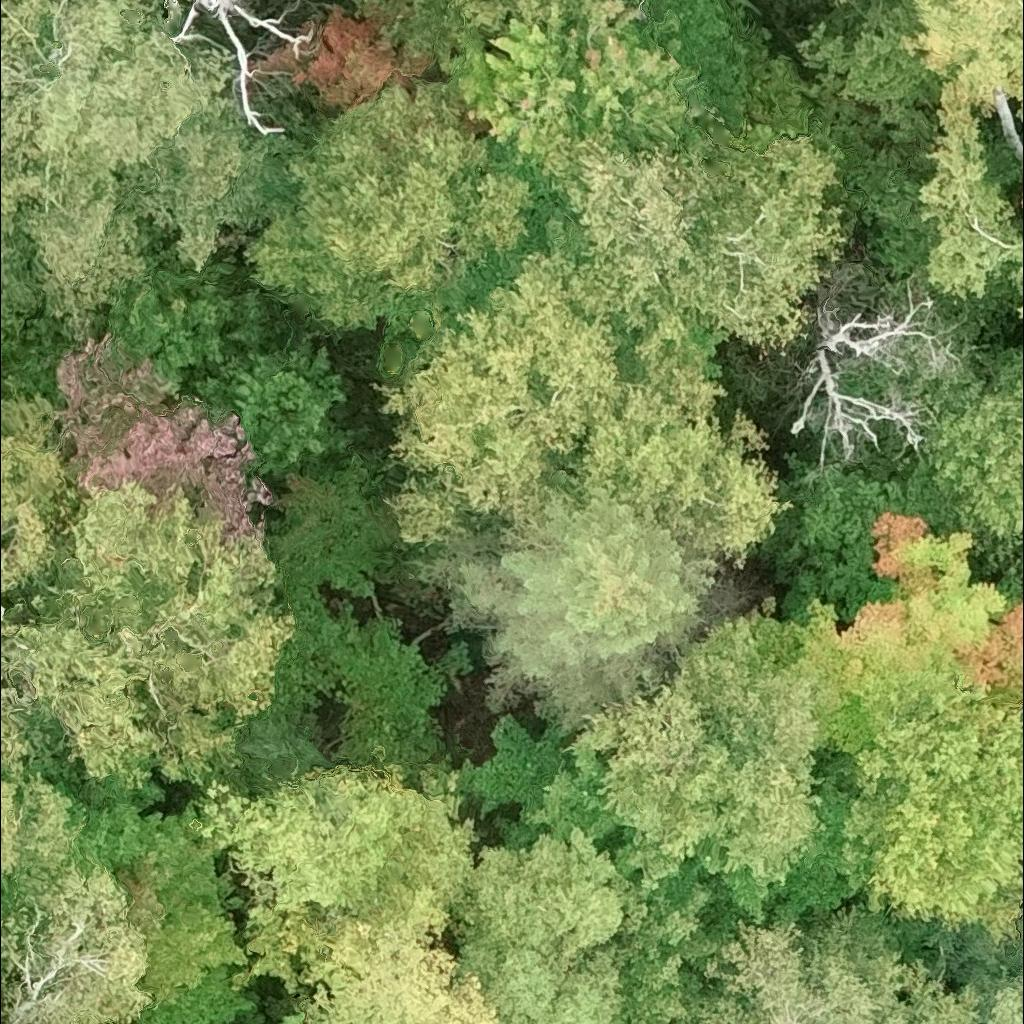crown: (371, 210, 794, 567), (0, 0, 295, 334), (0, 478, 300, 790), (404, 486, 726, 735), (242, 77, 546, 330), (564, 609, 827, 890), (534, 121, 847, 353), (199, 746, 480, 992), (753, 509, 1023, 754), (839, 677, 1023, 946), (52, 329, 277, 544), (442, 5, 697, 167), (447, 826, 651, 1023), (690, 898, 983, 1023), (789, 274, 972, 468), (111, 799, 253, 1011), (266, 914, 508, 1023), (908, 340, 1023, 568), (0, 861, 159, 1023), (919, 78, 1023, 320), (314, 598, 450, 764), (264, 451, 412, 597), (166, 0, 317, 139), (0, 681, 88, 915), (616, 884, 747, 1023), (0, 386, 81, 599), (607, 826, 788, 920), (898, 0, 1023, 122), (772, 750, 858, 918), (455, 711, 569, 818), (451, 0, 626, 31), (978, 969, 1023, 1023), (1015, 159, 1023, 209), (236, 1013, 266, 1023), (279, 1012, 304, 1023)
